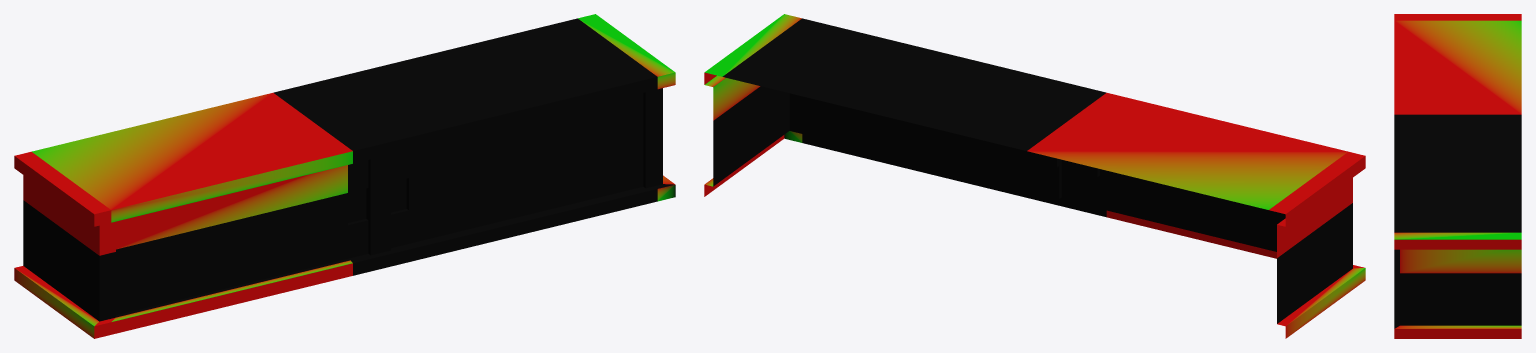
File: Bänk.fbx
3 views of the same model, side by side, from view 1: azimuth 30°, elevation 25°; view 2: azimuth 150°, elevation 25°; view 3: azimuth 270°, elevation 25° (orthographic). The views are drawn at different scales.
Parts seen in each view (by area): view 1: Litet_bord; view 2: Litet_bord; view 3: Litet_bord.
Part boxes in pixels (x1,y1,x2,y2): Litet_bord: [14, 14, 675, 338]; Litet_bord: [704, 14, 1365, 338]; Litet_bord: [1394, 14, 1521, 338].
Size of the model in its own units: 668 by 137 by 159.
